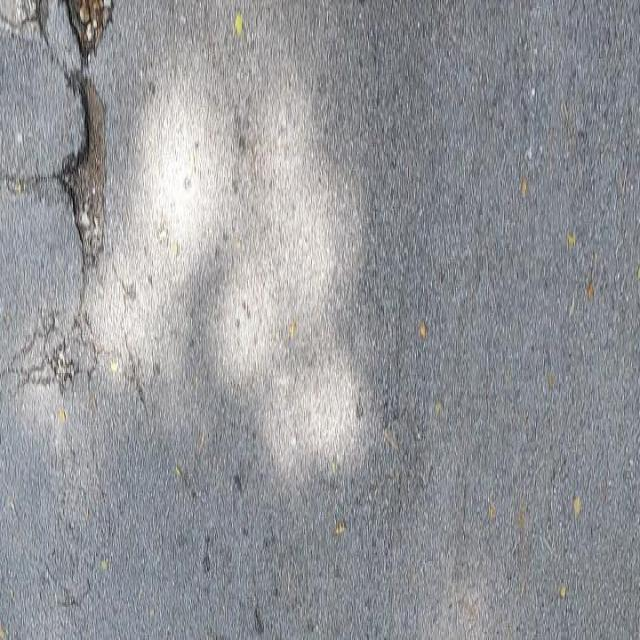potholes: (0, 1, 143, 406)
